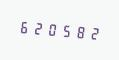eight: (74, 21, 87, 42)
five: (60, 20, 73, 41)
six: (17, 16, 30, 37)
two: (31, 17, 44, 38), (88, 22, 101, 43)
zero: (46, 18, 59, 39)
